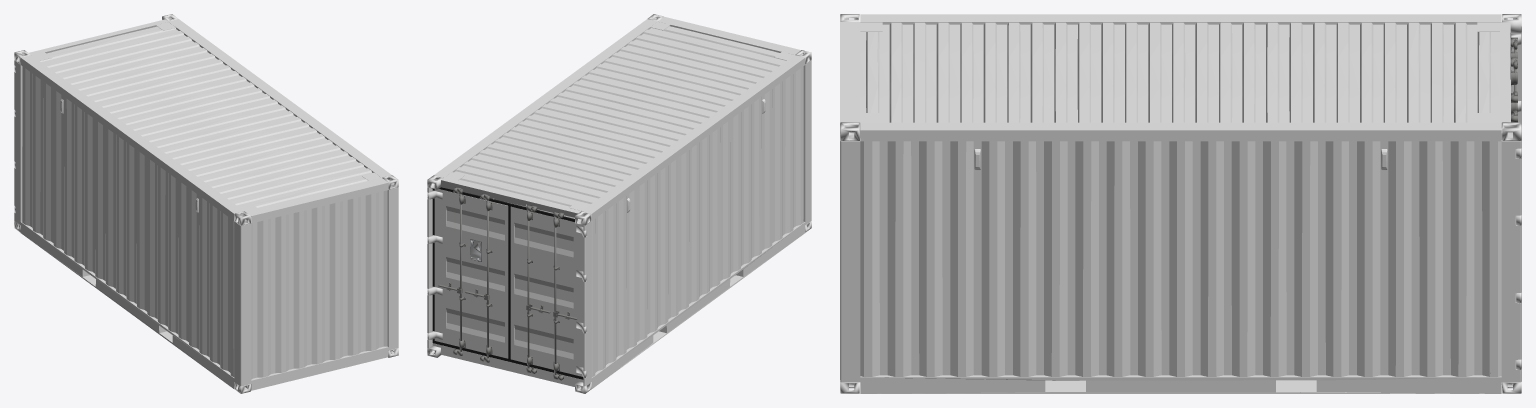
The model's file is Container_20ft_LOD1.fbx.
3 renders of one model, left to right at view 1: azimuth 30°, elevation 25°; view 2: azimuth 150°, elevation 25°; view 3: azimuth 270°, elevation 25°, orthographic. The views are drawn at different scales.
Visible parts, largest first — view 1: Container_20ft_LOD1; view 2: Container_20ft_LOD1; view 3: Container_20ft_LOD1.
Part boxes in pixels (box(x1,y1,x2,y2)): Container_20ft_LOD1: box(14, 14, 398, 393); Container_20ft_LOD1: box(427, 14, 811, 393); Container_20ft_LOD1: box(840, 14, 1521, 393).
Size of the model in its own units: 244 by 259 by 606.
